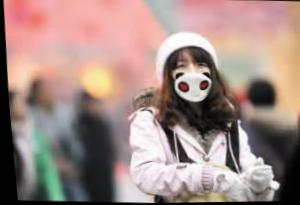WRONG: (168, 60, 215, 105)
